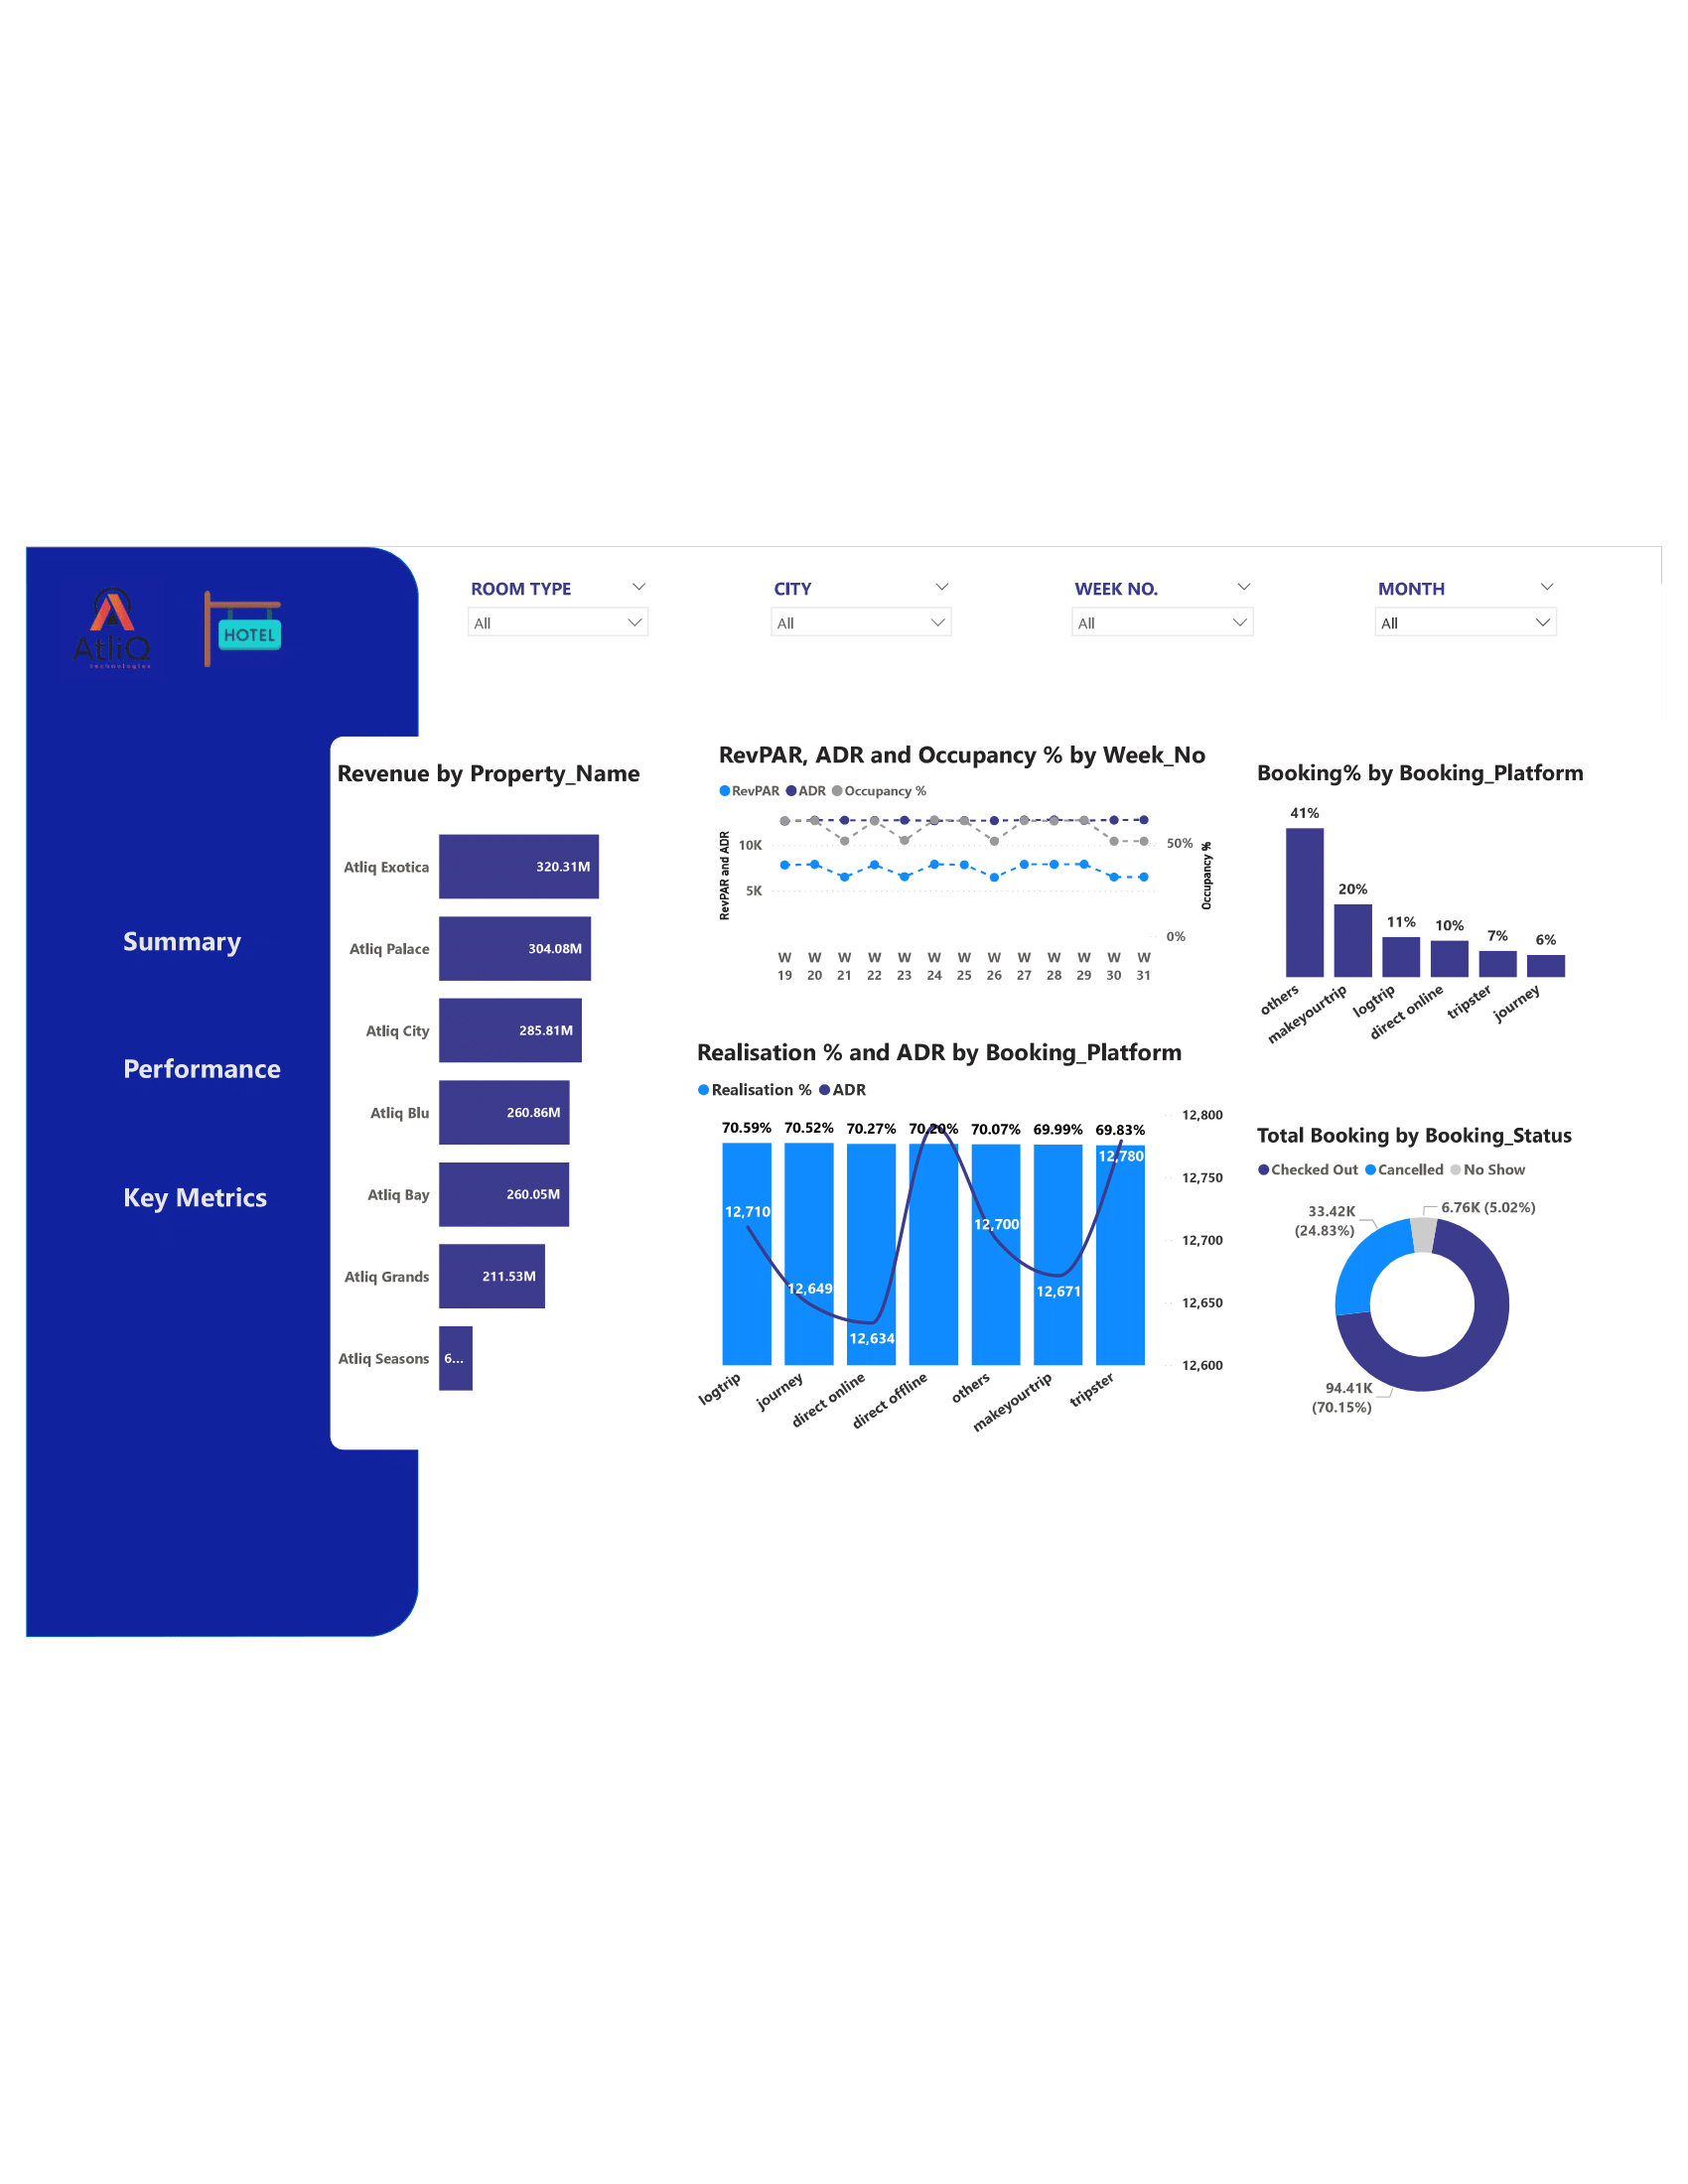

The dashboard page shown, as its layout file describes it:
{"tool":"powerbi","page":{"name":"Performance","canvas":[1500,1000],"ordinal":1},"visuals":[{"type":"shape","box":[0,0,360.1,1000.3],"z":0},{"type":"shape","box":[609.8,173.8,496.7,234.4],"z":1000},{"type":"shape","box":[1124.6,172.1,311.5,316.4],"z":2000},{"type":"shape","box":[1124.6,511.5,311.5,314.8],"z":3000},{"type":"shape","box":[609.8,429.5,496.7,398.4],"z":4000},{"type":"shape","box":[278.7,173.8,313.1,654.1],"z":5000},{"type":"lineClusteredColumnComboChart","title":"Realisation % and ADR by Booking_Platform","fields":{"Category":["fact_bookings.booking_platform"],"Y":["Key_Measures.Realisation %"],"Y2":["Key_Measures.ADR"]},"box":[609.7,448.4,497.6,385.5],"z":6000},{"type":"donutChart","title":"Total Booking by Booking_Status","fields":{"Category":["fact_bookings.booking_status"],"Y":["Key_Measures.Total Bookings"]},"box":[1124.3,526.5,312.5,283.6],"z":7000},{"type":"lineChart","title":"RevPAR, ADR and Occupancy % by Week_No","fields":{"Y":["Key_Measures.RevPAR","Key_Measures.ADR"],"Category":["dim_date.week no"],"Y2":["Key_Measures.Occupancy %"]},"box":[630.1,174.9,463.7,232.7],"z":8000},{"type":"clusteredBarChart","title":"Revenue by Property_Name","fields":{"Category":["dim_hotels.property_name"],"Y":["Key_Measures.Revenue"]},"box":[280.2,191.9,302.3,618.2],"z":9000},{"type":"actionButton","title":"Summary","box":[85.3,330.5,154.2,57.6],"z":10000},{"type":"actionButton","title":"Summary","box":[85.3,448.3,154.2,57.6],"z":11000},{"type":"actionButton","title":"Summary","box":[85.3,566.1,154.2,57.6],"z":12000},{"type":"image","box":[25.8,22.5,106.2,104.6],"z":13000},{"type":"image","box":[157.6,35.6,81.4,79.7],"z":14000},{"type":"slicer","fields":{"Values":["dim_rooms.room_class"]},"box":[394.9,22,186.4,76.3],"z":15000},{"type":"slicer","fields":{"Values":["dim_hotels.city"]},"box":[672.9,22,186.4,76.3],"z":16000},{"type":"slicer","fields":{"Values":["dim_date.week no"]},"box":[949.2,22,186.4,76.3],"z":17000},{"type":"slicer","fields":{"Values":["dim_date.mmm yy"]},"box":[1227.1,22,186.4,76.3],"z":18000},{"type":"shape","box":[278.5,171.5,1158.3,657.3],"z":19000},{"type":"clusteredColumnChart","title":"Booking% by Booking_Platform","fields":{"Category":["fact_bookings.booking_platform"],"Y":["Key_Measures.Booking platform %"]},"box":[1124.3,191.9,310.8,285.3],"z":20000}]}

Visuals, with their boxes on the page's 1500x1000 design canvas (x1, y1, x2, y2). These are canvas units, not pixel positions in the 1688x2184 screenshot, which may show the page scaled, cropped or inside an application window:
shape: box(0, 0, 360, 1000)
shape: box(610, 174, 1106, 408)
shape: box(1125, 172, 1436, 488)
shape: box(1125, 512, 1436, 826)
shape: box(610, 430, 1106, 828)
shape: box(279, 174, 592, 828)
"Realisation % and ADR by Booking_Platform" lineClusteredColumnComboChart: box(610, 448, 1107, 834)
"Total Booking by Booking_Status" donutChart: box(1124, 526, 1437, 810)
"RevPAR, ADR and Occupancy % by Week_No" lineChart: box(630, 175, 1094, 408)
"Revenue by Property_Name" clusteredBarChart: box(280, 192, 582, 810)
"Summary" actionButton: box(85, 330, 240, 388)
"Summary" actionButton: box(85, 448, 240, 506)
"Summary" actionButton: box(85, 566, 240, 624)
image: box(26, 22, 132, 127)
image: box(158, 36, 239, 115)
slicer - dim_rooms.room_class: box(395, 22, 581, 98)
slicer - dim_hotels.city: box(673, 22, 859, 98)
slicer - dim_date.week no: box(949, 22, 1136, 98)
slicer - dim_date.mmm yy: box(1227, 22, 1414, 98)
shape: box(278, 172, 1437, 829)
"Booking% by Booking_Platform" clusteredColumnChart: box(1124, 192, 1435, 477)
